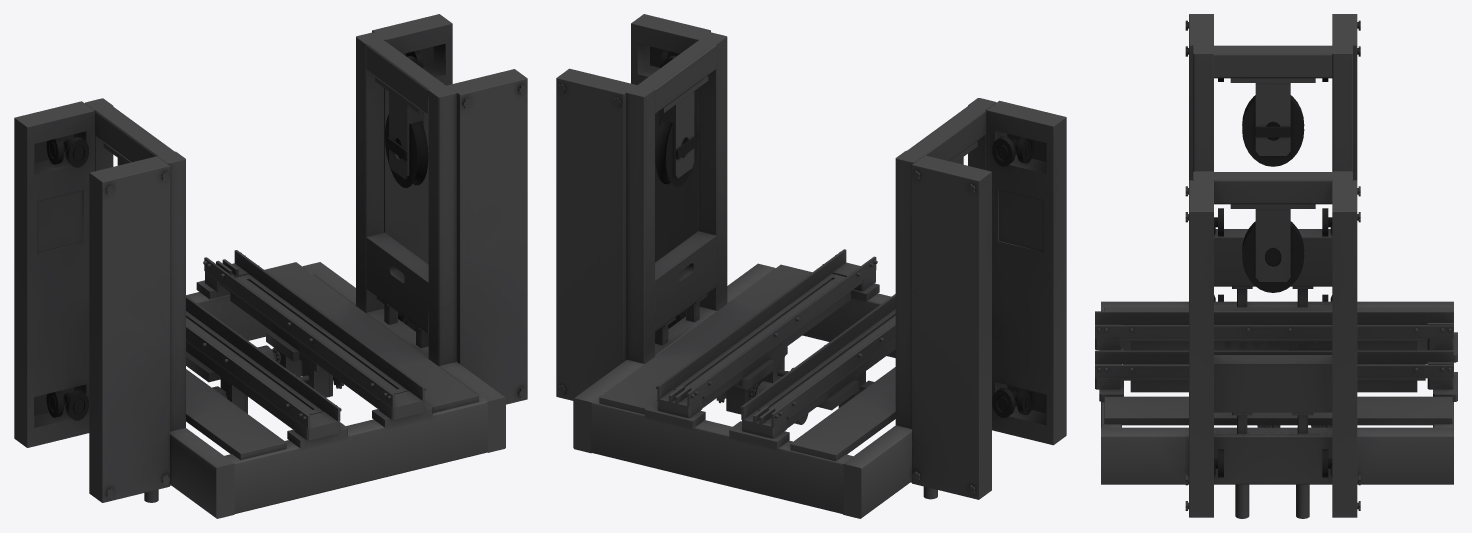
File: SND_duiduoji_zaiwutai2.glb
3 views of the same model, side by side, from view 1: azimuth 30°, elevation 25°; view 2: azimuth 150°, elevation 25°; view 3: azimuth 270°, elevation 25° (orthographic). The views are drawn at different scales.
Bounding box in the file's own units: 1677 × 1344 × 1299.
Materials: 1 (1 with a texture image).
